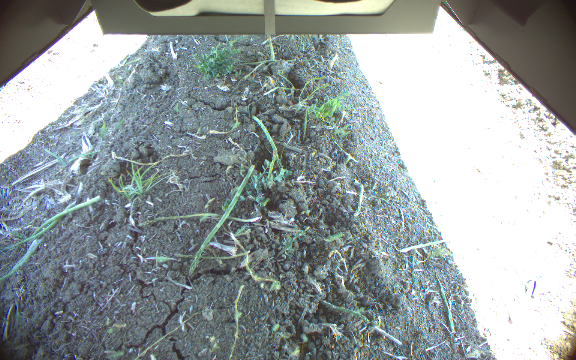aspa: (265, 147, 279, 185), (266, 34, 276, 62)
